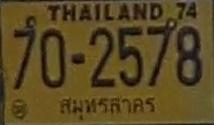0: (40, 28, 64, 87)
2: (90, 27, 114, 86)
5: (118, 27, 142, 85)
7: (146, 25, 174, 85), (12, 27, 35, 89)
8: (176, 26, 200, 84)
SKN: (59, 93, 161, 121)
